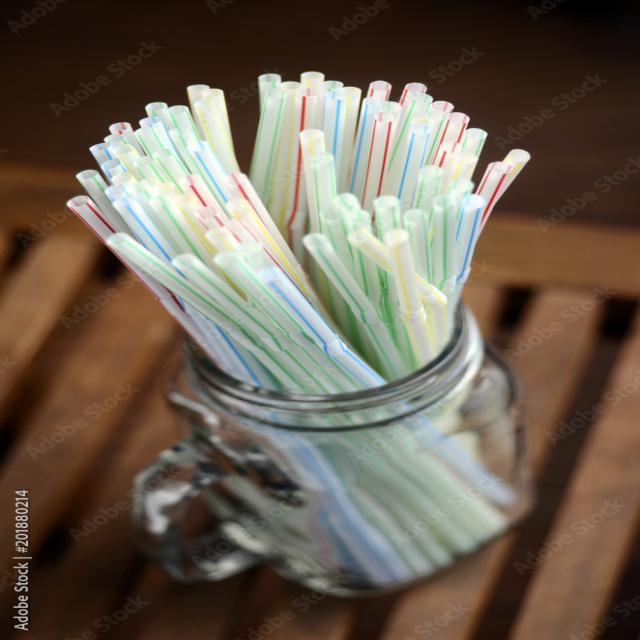plastic: (299, 212, 369, 400)
